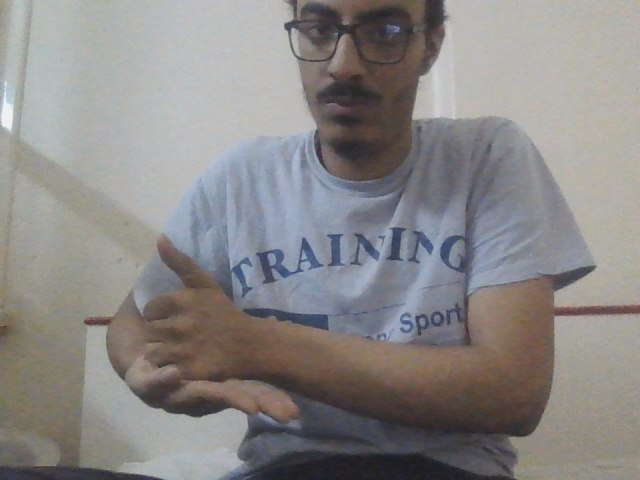Help: (110, 229, 327, 426)
